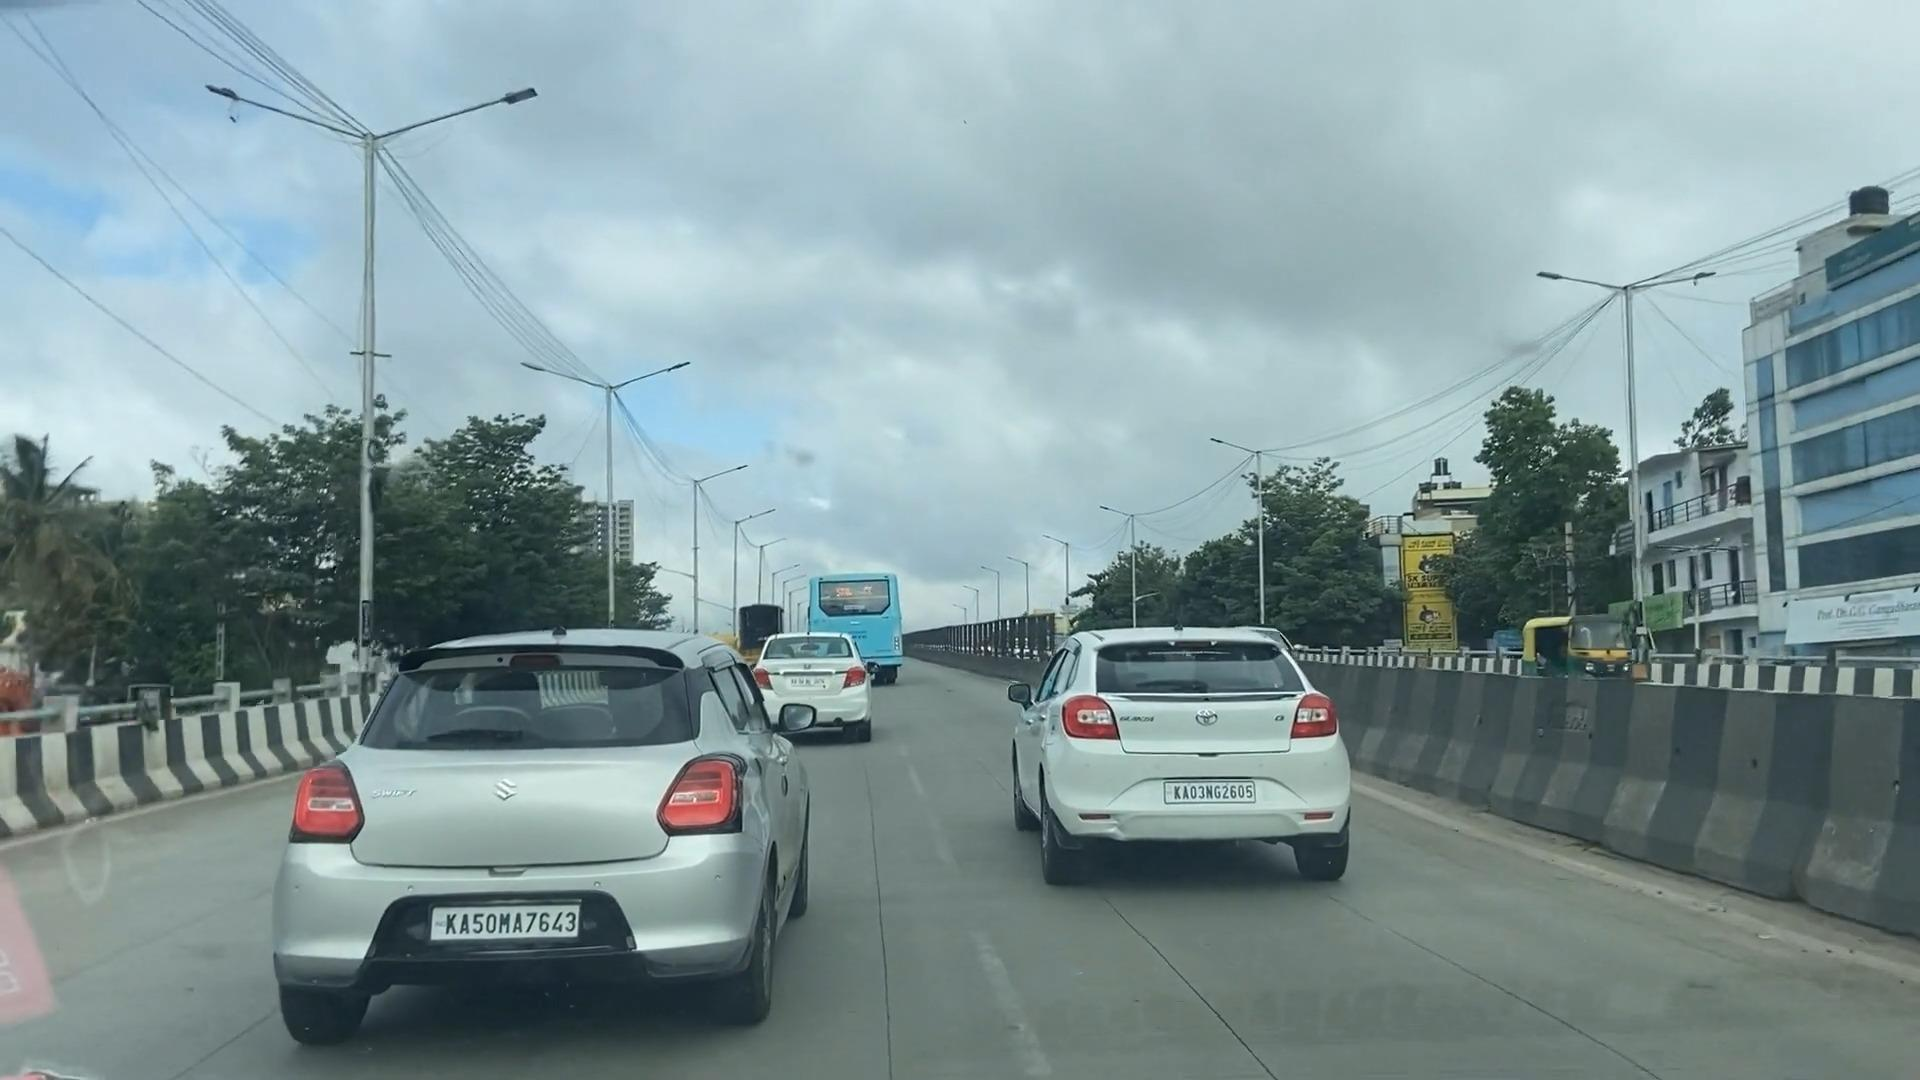HMV: (783, 521, 911, 684)
LMV: (211, 537, 815, 1055), (990, 611, 1348, 905), (717, 587, 874, 740)
